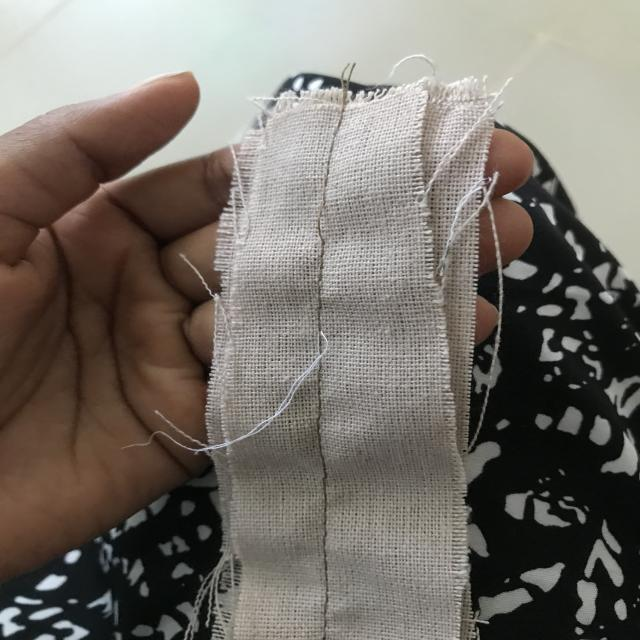skip: (300, 197, 352, 251)
